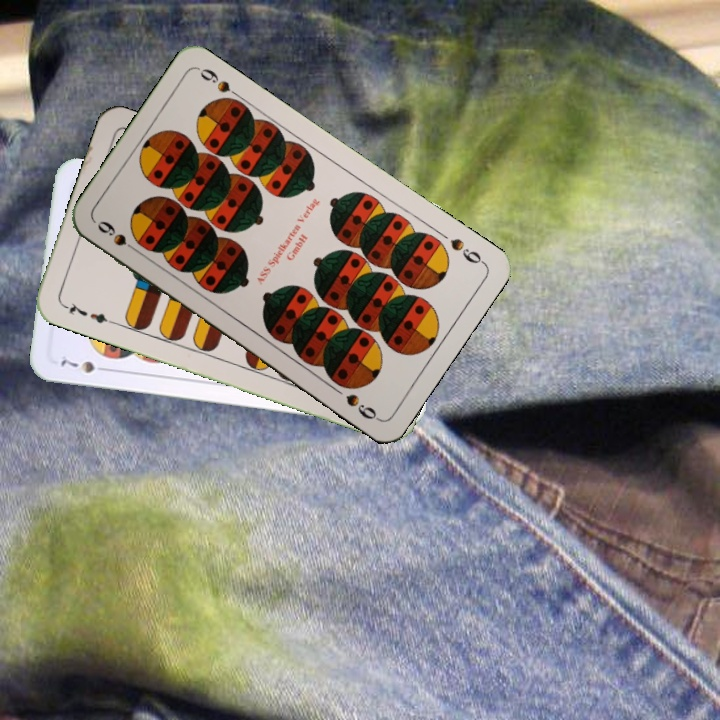E7: (58, 298, 116, 327)
S7: (56, 355, 112, 376)
S9: (93, 216, 144, 257), (446, 234, 488, 267)
